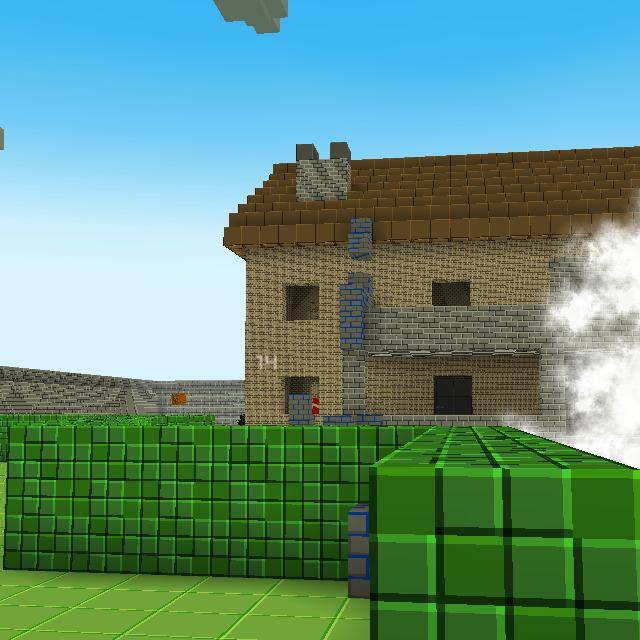enemy: (312, 397, 320, 414), (236, 414, 246, 426)
